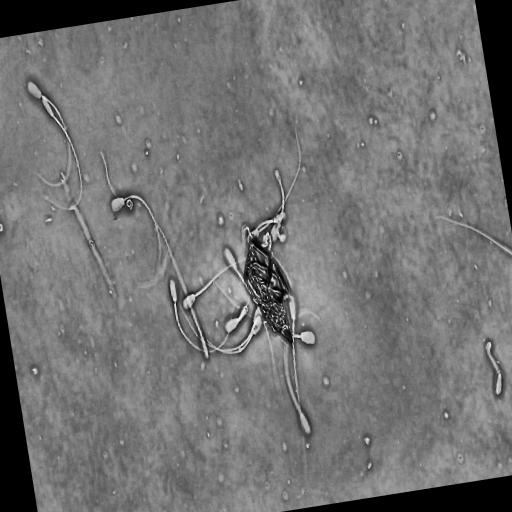coiled-tail: (275, 169, 284, 225), (237, 304, 248, 322)
dirt-particles: (239, 221, 296, 349)
folded-tail: (486, 341, 500, 373)
loose-tail: (431, 212, 512, 258), (98, 147, 134, 213)
normal: (281, 308, 326, 439), (167, 278, 236, 355), (109, 192, 163, 290), (40, 93, 83, 212), (26, 79, 72, 188), (176, 297, 264, 352), (179, 253, 244, 311), (286, 292, 307, 467), (204, 313, 264, 354), (481, 334, 508, 401), (268, 163, 285, 245), (223, 301, 249, 335)
